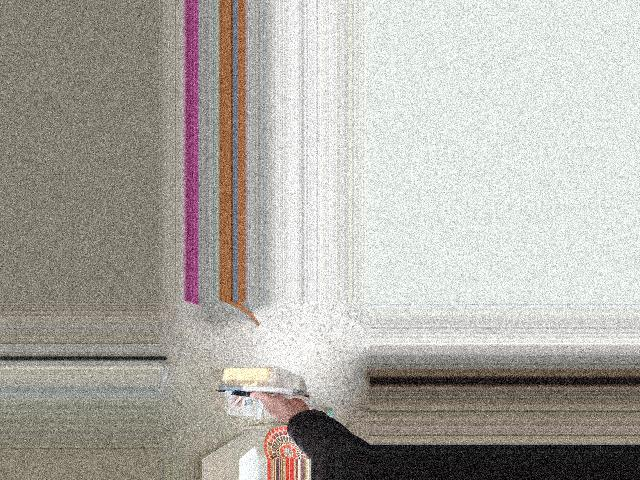cheese: (225, 343, 324, 439)
